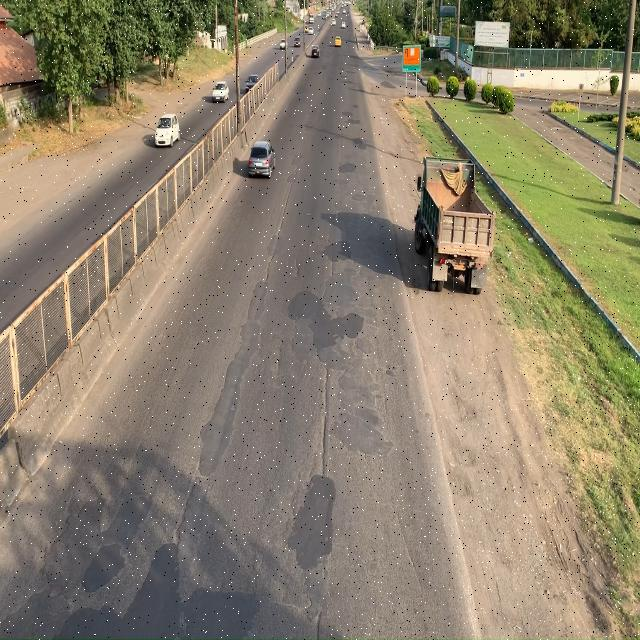Truck: (413, 154, 497, 294)
cars: (248, 141, 276, 177), (155, 112, 181, 146)
